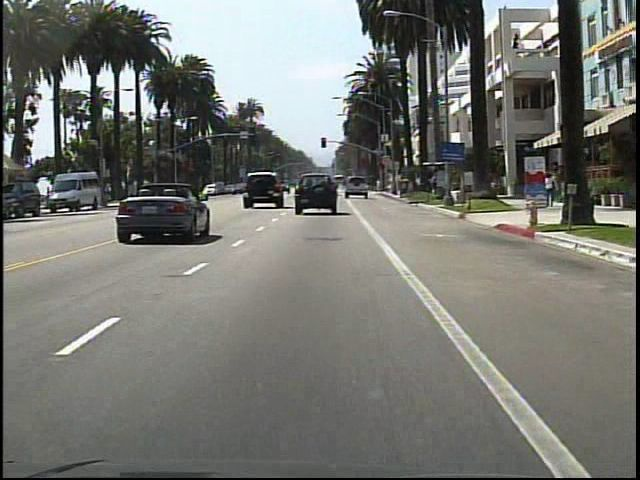person: (544, 171, 557, 210)
